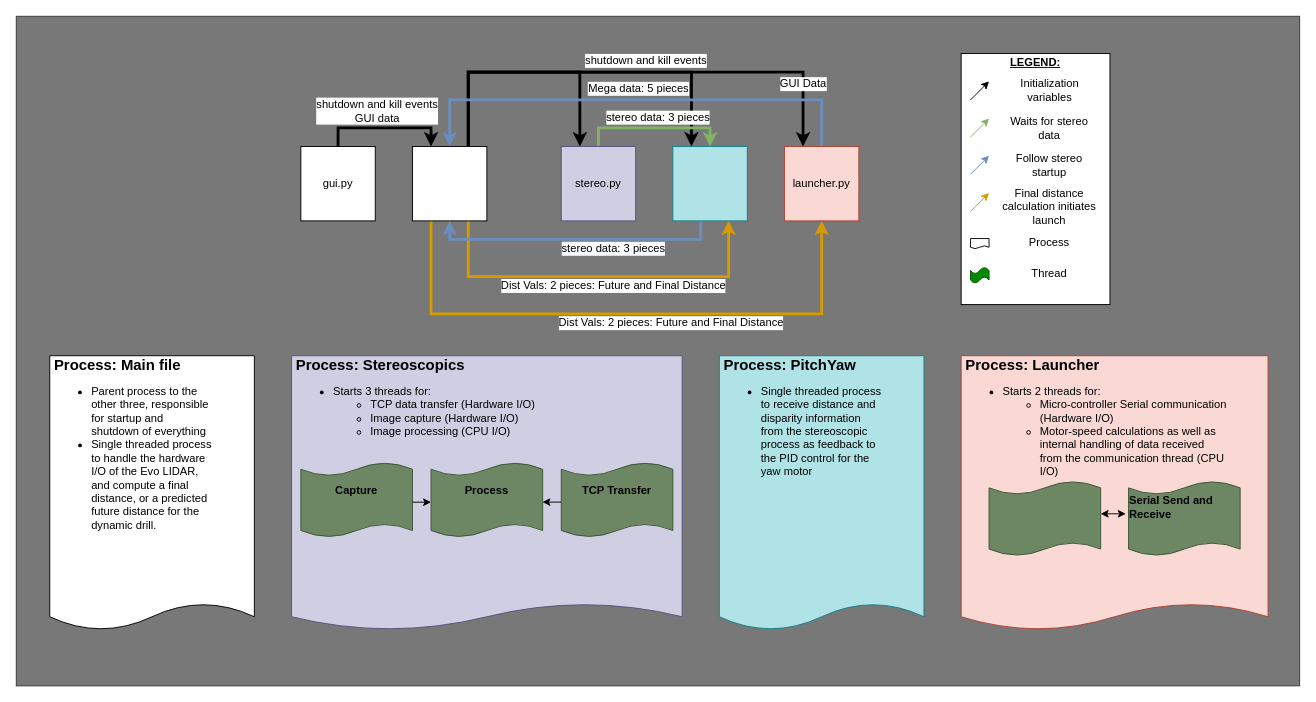
The diagram is 1316 pixels wide and 702 high, and some of its shapes have lost their labels. The box of each missing label's shape, as (x1, y1, x2, y2) in pixels:
Calculation and internal I/O: (988, 480, 1101, 556)
pitch_yaw.py: (672, 146, 747, 221)
server_pi.py main file: (412, 146, 487, 221)
